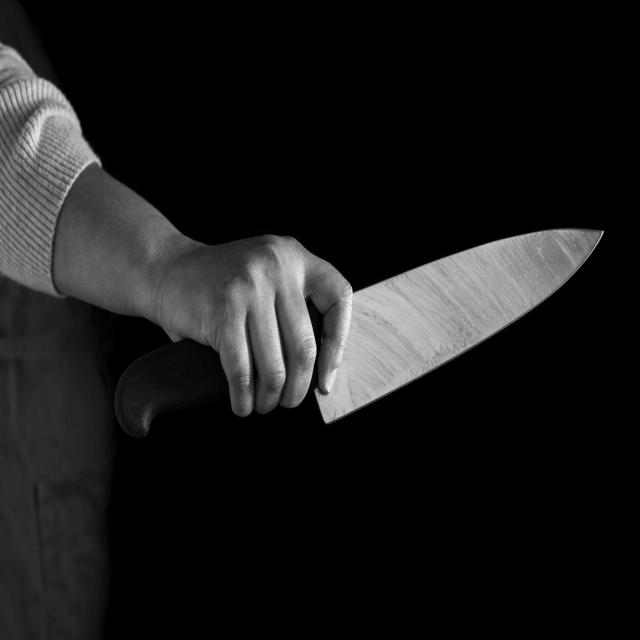Knife: (108, 197, 627, 531)
